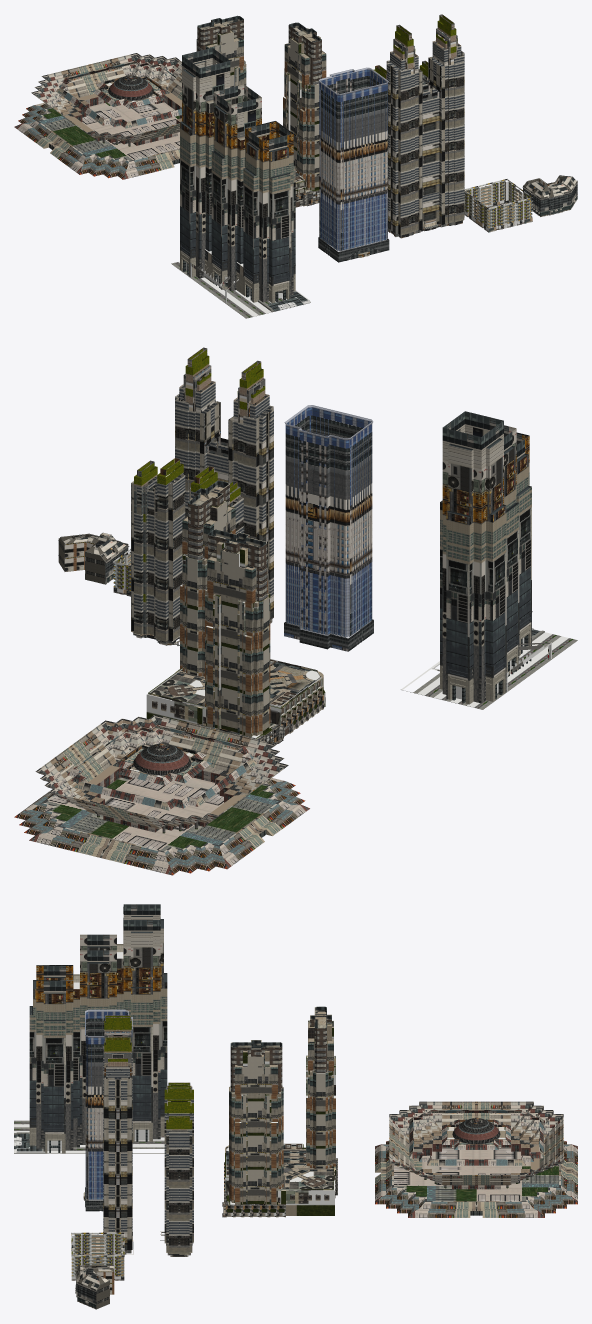
The model's file is building 1.fbx.
3 views of the same model, one above another, from view 1: azimuth 30°, elevation 25°; view 2: azimuth 150°, elevation 25°; view 3: azimuth 270°, elevation 25° (orthographic). The views are drawn at different scales.
Visible parts, largest first — view 1: building-6, building-7, building-2, building-1, building-5, building-3, building-4; view 2: building-7, building-6, building-5, building-2, building-1, building-4, building-3; view 3: building-6, building-7, building-5, building-2, building-1, building-3, building-4.
Part boxes in pixels (<box>): building-6: <box>171,48,310,318</box>; building-7: <box>14,53,181,179</box>; building-2: <box>373,14,464,238</box>; building-1: <box>318,67,389,262</box>; building-5: <box>196,15,326,207</box>; building-3: <box>464,179,532,232</box>; building-4: <box>522,175,577,216</box>; building-7: <box>14,715,309,875</box>; building-6: <box>401,411,577,709</box>; building-5: <box>146,480,325,748</box>; building-2: <box>131,347,273,645</box>; building-1: <box>284,405,373,651</box>; building-4: <box>58,532,129,584</box>; building-3: <box>113,549,130,596</box>; building-6: <box>14,904,167,1153</box>; building-7: <box>375,1101,577,1217</box>; building-5: <box>222,1006,337,1217</box>; building-2: <box>103,1015,193,1256</box>; building-1: <box>83,1009,132,1211</box>; building-3: <box>71,1232,124,1280</box>; building-4: <box>75,1265,114,1309</box>.
Bounding box in the file's own units: 365 × 199 × 461.
Materials: 1 (1 with a texture image).
